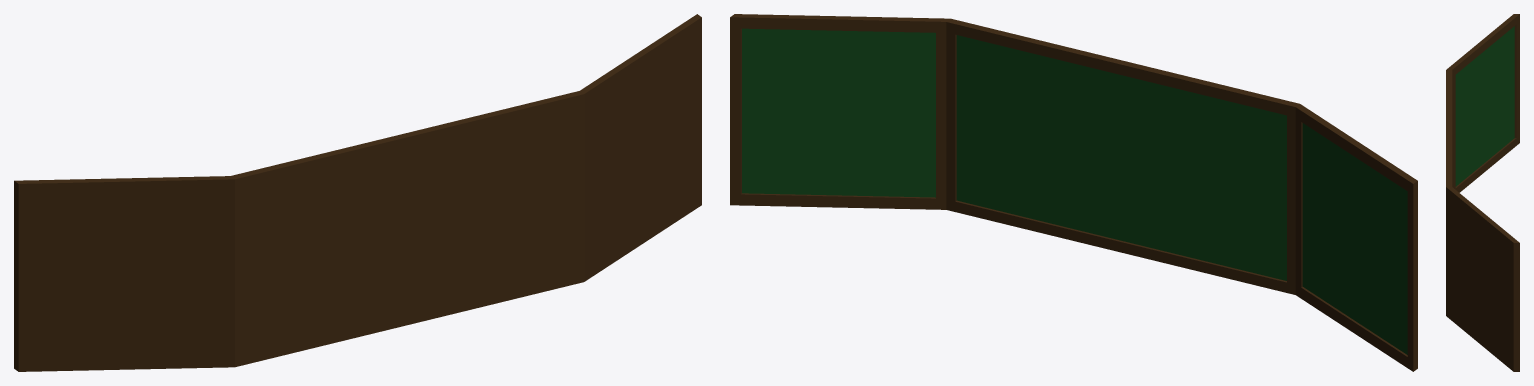
Rendered from Board_000.glb.
3 renders of one model, left to right at view 1: azimuth 30°, elevation 25°; view 2: azimuth 150°, elevation 25°; view 3: azimuth 270°, elevation 25°, orthographic. The views are drawn at different scales.
Visible parts, largest first — view 1: Board; view 2: Board; view 3: Board.
Part boxes in pixels (left/top/right/bottom): Board: left=14, top=14, right=701, bottom=371; Board: left=730, top=14, right=1417, bottom=371; Board: left=1446, top=14, right=1519, bottom=371.
Size of the model in its own units: 6.23 by 1.64 by 0.8501.
